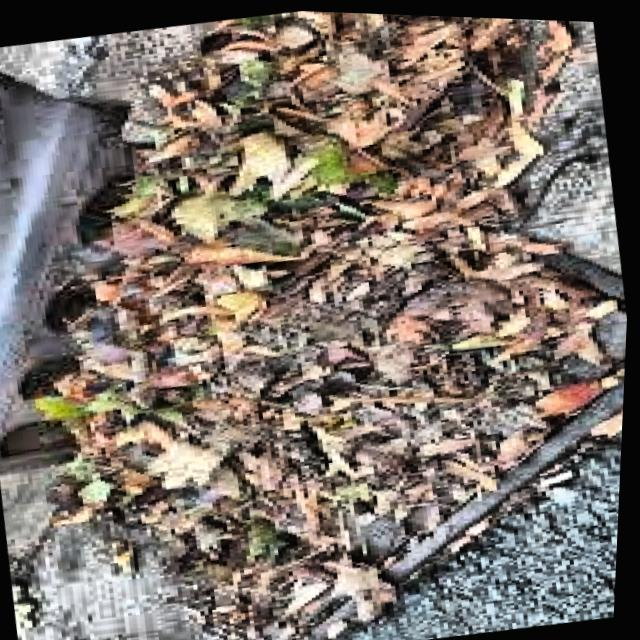clogged_drains: (40, 11, 627, 640)
